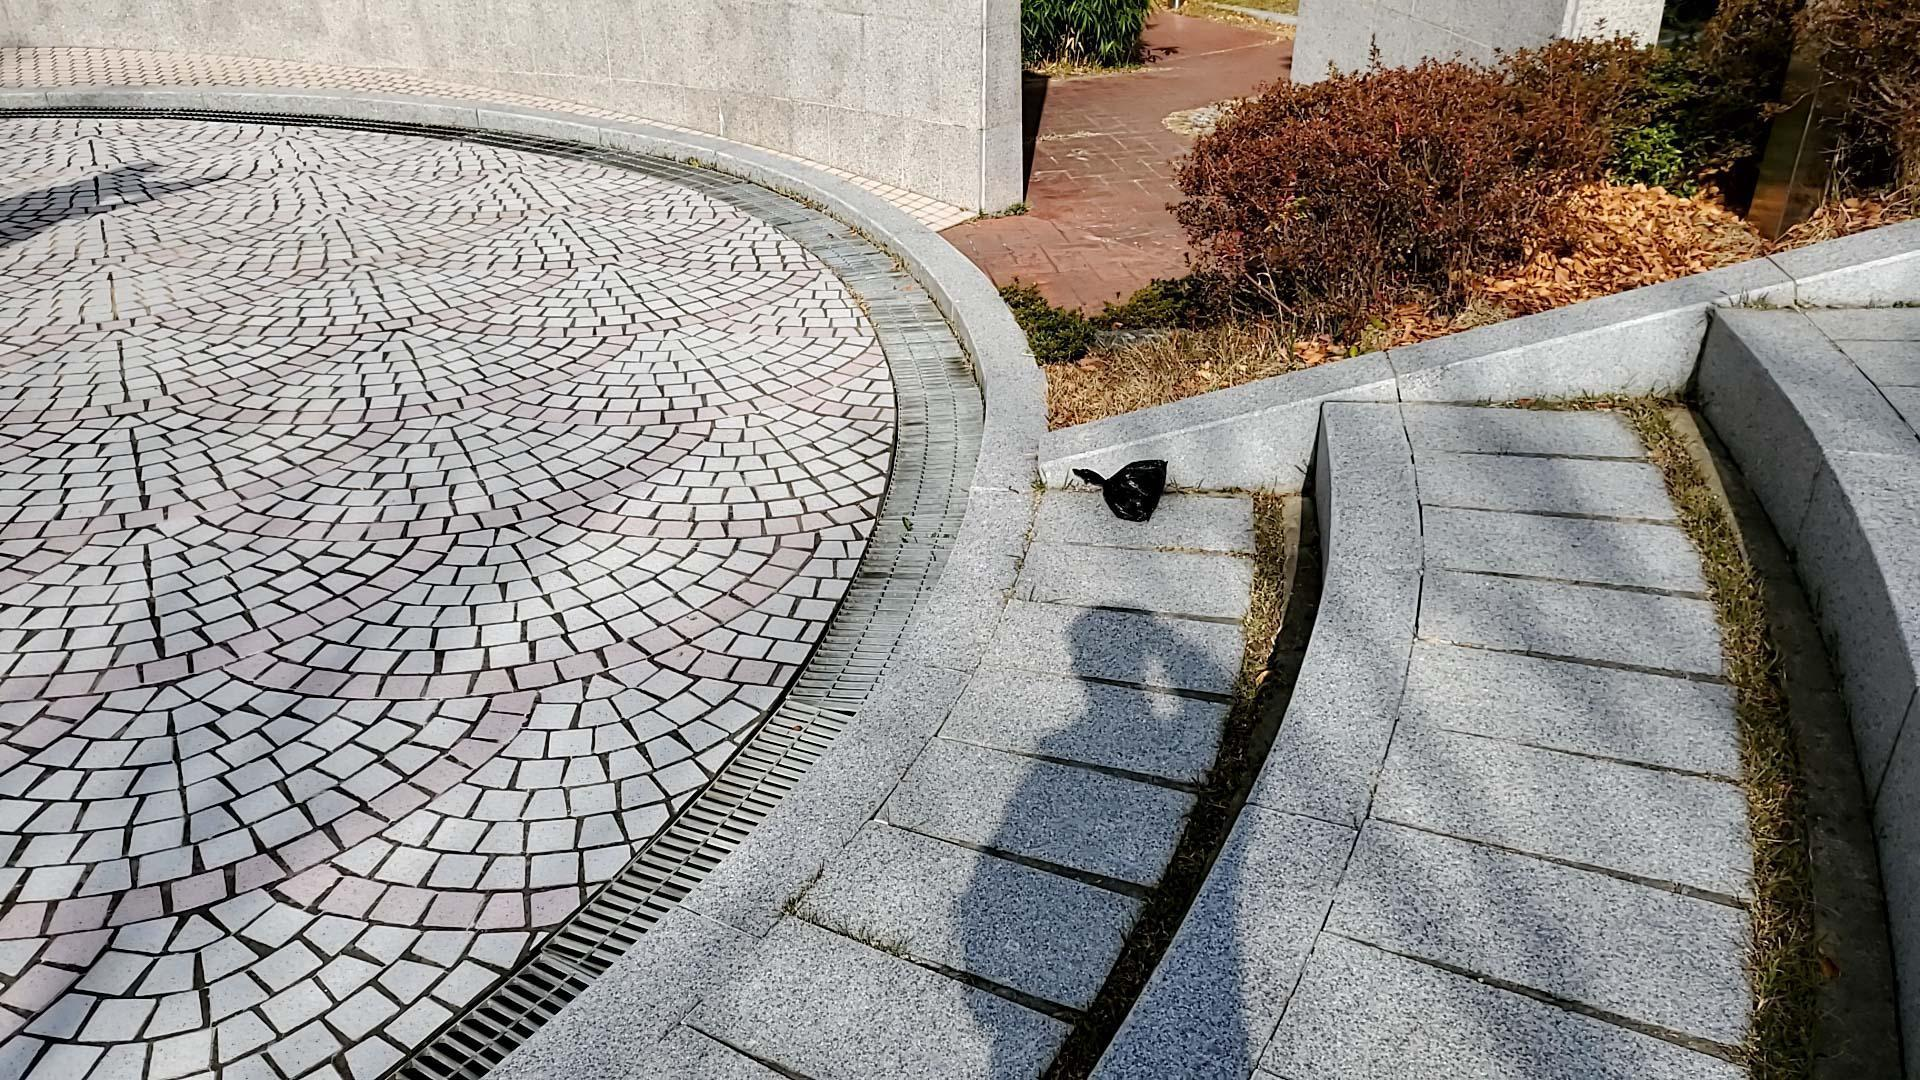black_bag: (1067, 452, 1171, 526)
